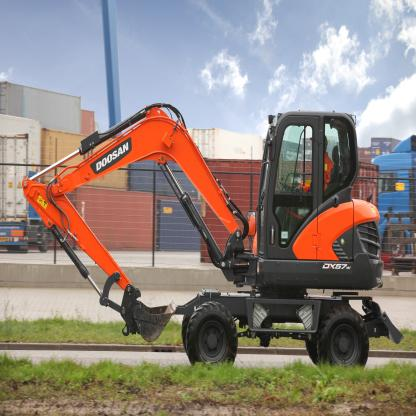excavator: (27, 70, 394, 390)
